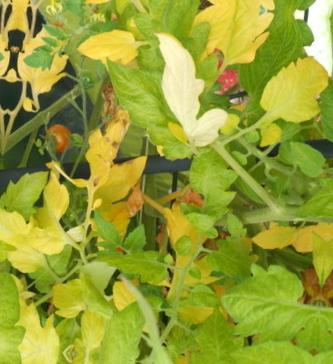Tomato leaf yellow virus: (212, 252, 325, 350), (72, 102, 155, 216), (252, 44, 333, 131), (75, 19, 146, 67), (0, 259, 39, 345)
